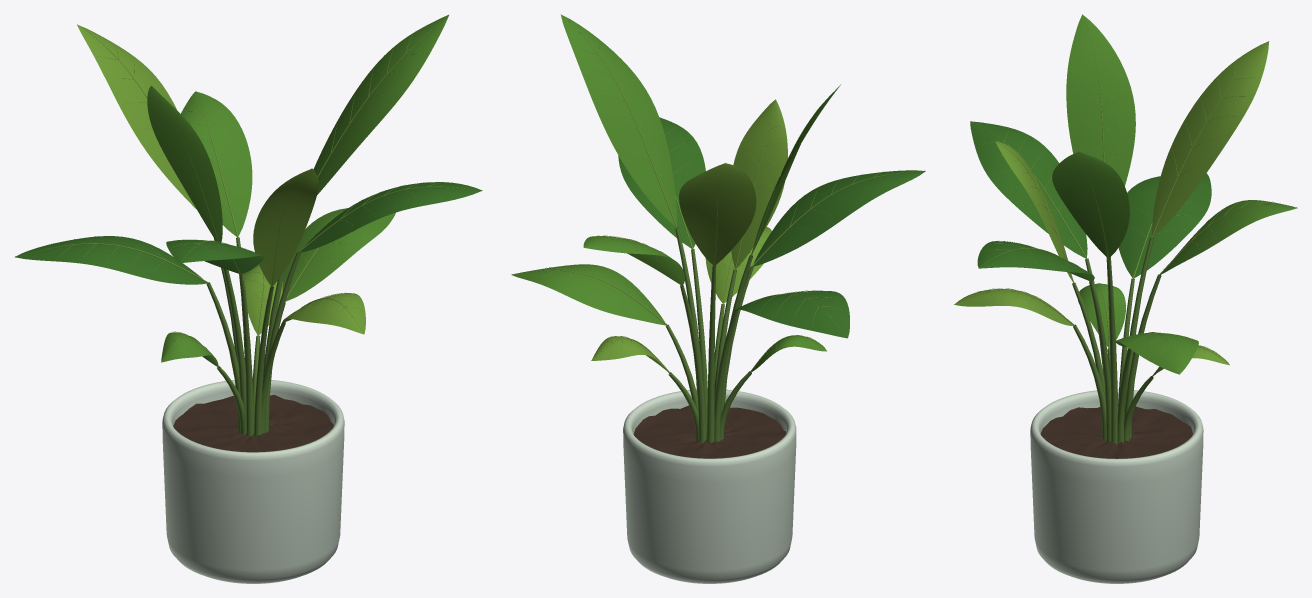
The model's file is arkade-entrance-planter.glb.
The picture shows the model from 3 angles, left to right: view 1: azimuth 30°, elevation 25°; view 2: azimuth 150°, elevation 25°; view 3: azimuth 270°, elevation 25°; orthographic projection. The views are drawn at different scales.
Parts seen in each view (by area): view 1: Pale sage stoneware, Green stalks, Pointed leaf.007, Textured potting soil, Pointed leaf.003, Pointed leaf.008, Pointed leaf.006, Pointed leaf.001, Pointed leaf.009, Pointed leaf.005, Pointed leaf, Leaf veins (+4 smaller); view 2: Pale sage stoneware, Pointed leaf.007, Green stalks, Pointed leaf.006, Pointed leaf.004, Textured potting soil, Pointed leaf.009, Pointed leaf, Pointed leaf.001, Pointed leaf.005, Leaf veins, Pointed leaf.003 (+4 smaller); view 3: Pale sage stoneware, Pointed leaf.008, Pointed leaf.006, Green stalks, Pointed leaf.004, Pointed leaf.007, Textured potting soil, Pointed leaf.001, Leaf veins, Pointed leaf.003, Pointed leaf.005, Pointed leaf (+3 smaller).
Part boxes in pixels (box(x1,y1,x2,y2)): Pale sage stoneware: box(162, 380, 344, 583); Green stalks: box(206, 237, 300, 436); Pointed leaf.007: box(313, 15, 448, 194); Textured potting soil: box(173, 394, 333, 452); Pointed leaf.003: box(181, 91, 252, 237); Pointed leaf.008: box(147, 86, 222, 242); Pointed leaf.006: box(77, 24, 196, 208); Pointed leaf.001: box(14, 236, 207, 284); Pointed leaf.009: box(253, 168, 318, 286); Pointed leaf.005: box(299, 182, 482, 252); Pointed leaf: box(282, 208, 395, 301); Leaf veins: box(15, 15, 482, 367); Pale sage stoneware: box(623, 389, 796, 583); Pointed leaf.007: box(560, 14, 676, 227); Green stalks: box(665, 227, 753, 443); Pointed leaf.006: box(679, 163, 756, 265); Pointed leaf.004: box(753, 170, 925, 266); Textured potting soil: box(633, 405, 786, 458); Pointed leaf.009: box(731, 99, 787, 268); Pointed leaf: box(511, 264, 666, 325); Pointed leaf.001: box(735, 290, 849, 338); Pointed leaf.005: box(618, 117, 705, 249); Leaf veins: box(512, 15, 924, 373); Pointed leaf.003: box(583, 236, 684, 285); Pale sage stoneware: box(1030, 389, 1203, 583); Pointed leaf.008: box(1066, 14, 1135, 186); Pointed leaf.006: box(1152, 41, 1269, 237); Green stalks: box(1072, 237, 1161, 444); Pointed leaf.004: box(970, 121, 1087, 258); Pointed leaf.007: box(1052, 152, 1129, 257); Textured potting soil: box(1040, 406, 1192, 458); Pointed leaf.001: box(1118, 173, 1211, 278); Leaf veins: box(956, 14, 1296, 377); Pointed leaf.003: box(1160, 200, 1297, 274); Pointed leaf.005: box(977, 241, 1094, 281); Pointed leaf: box(1115, 333, 1198, 374).
Size of the model in its own units: 1.4 by 1.85 by 1.19.
